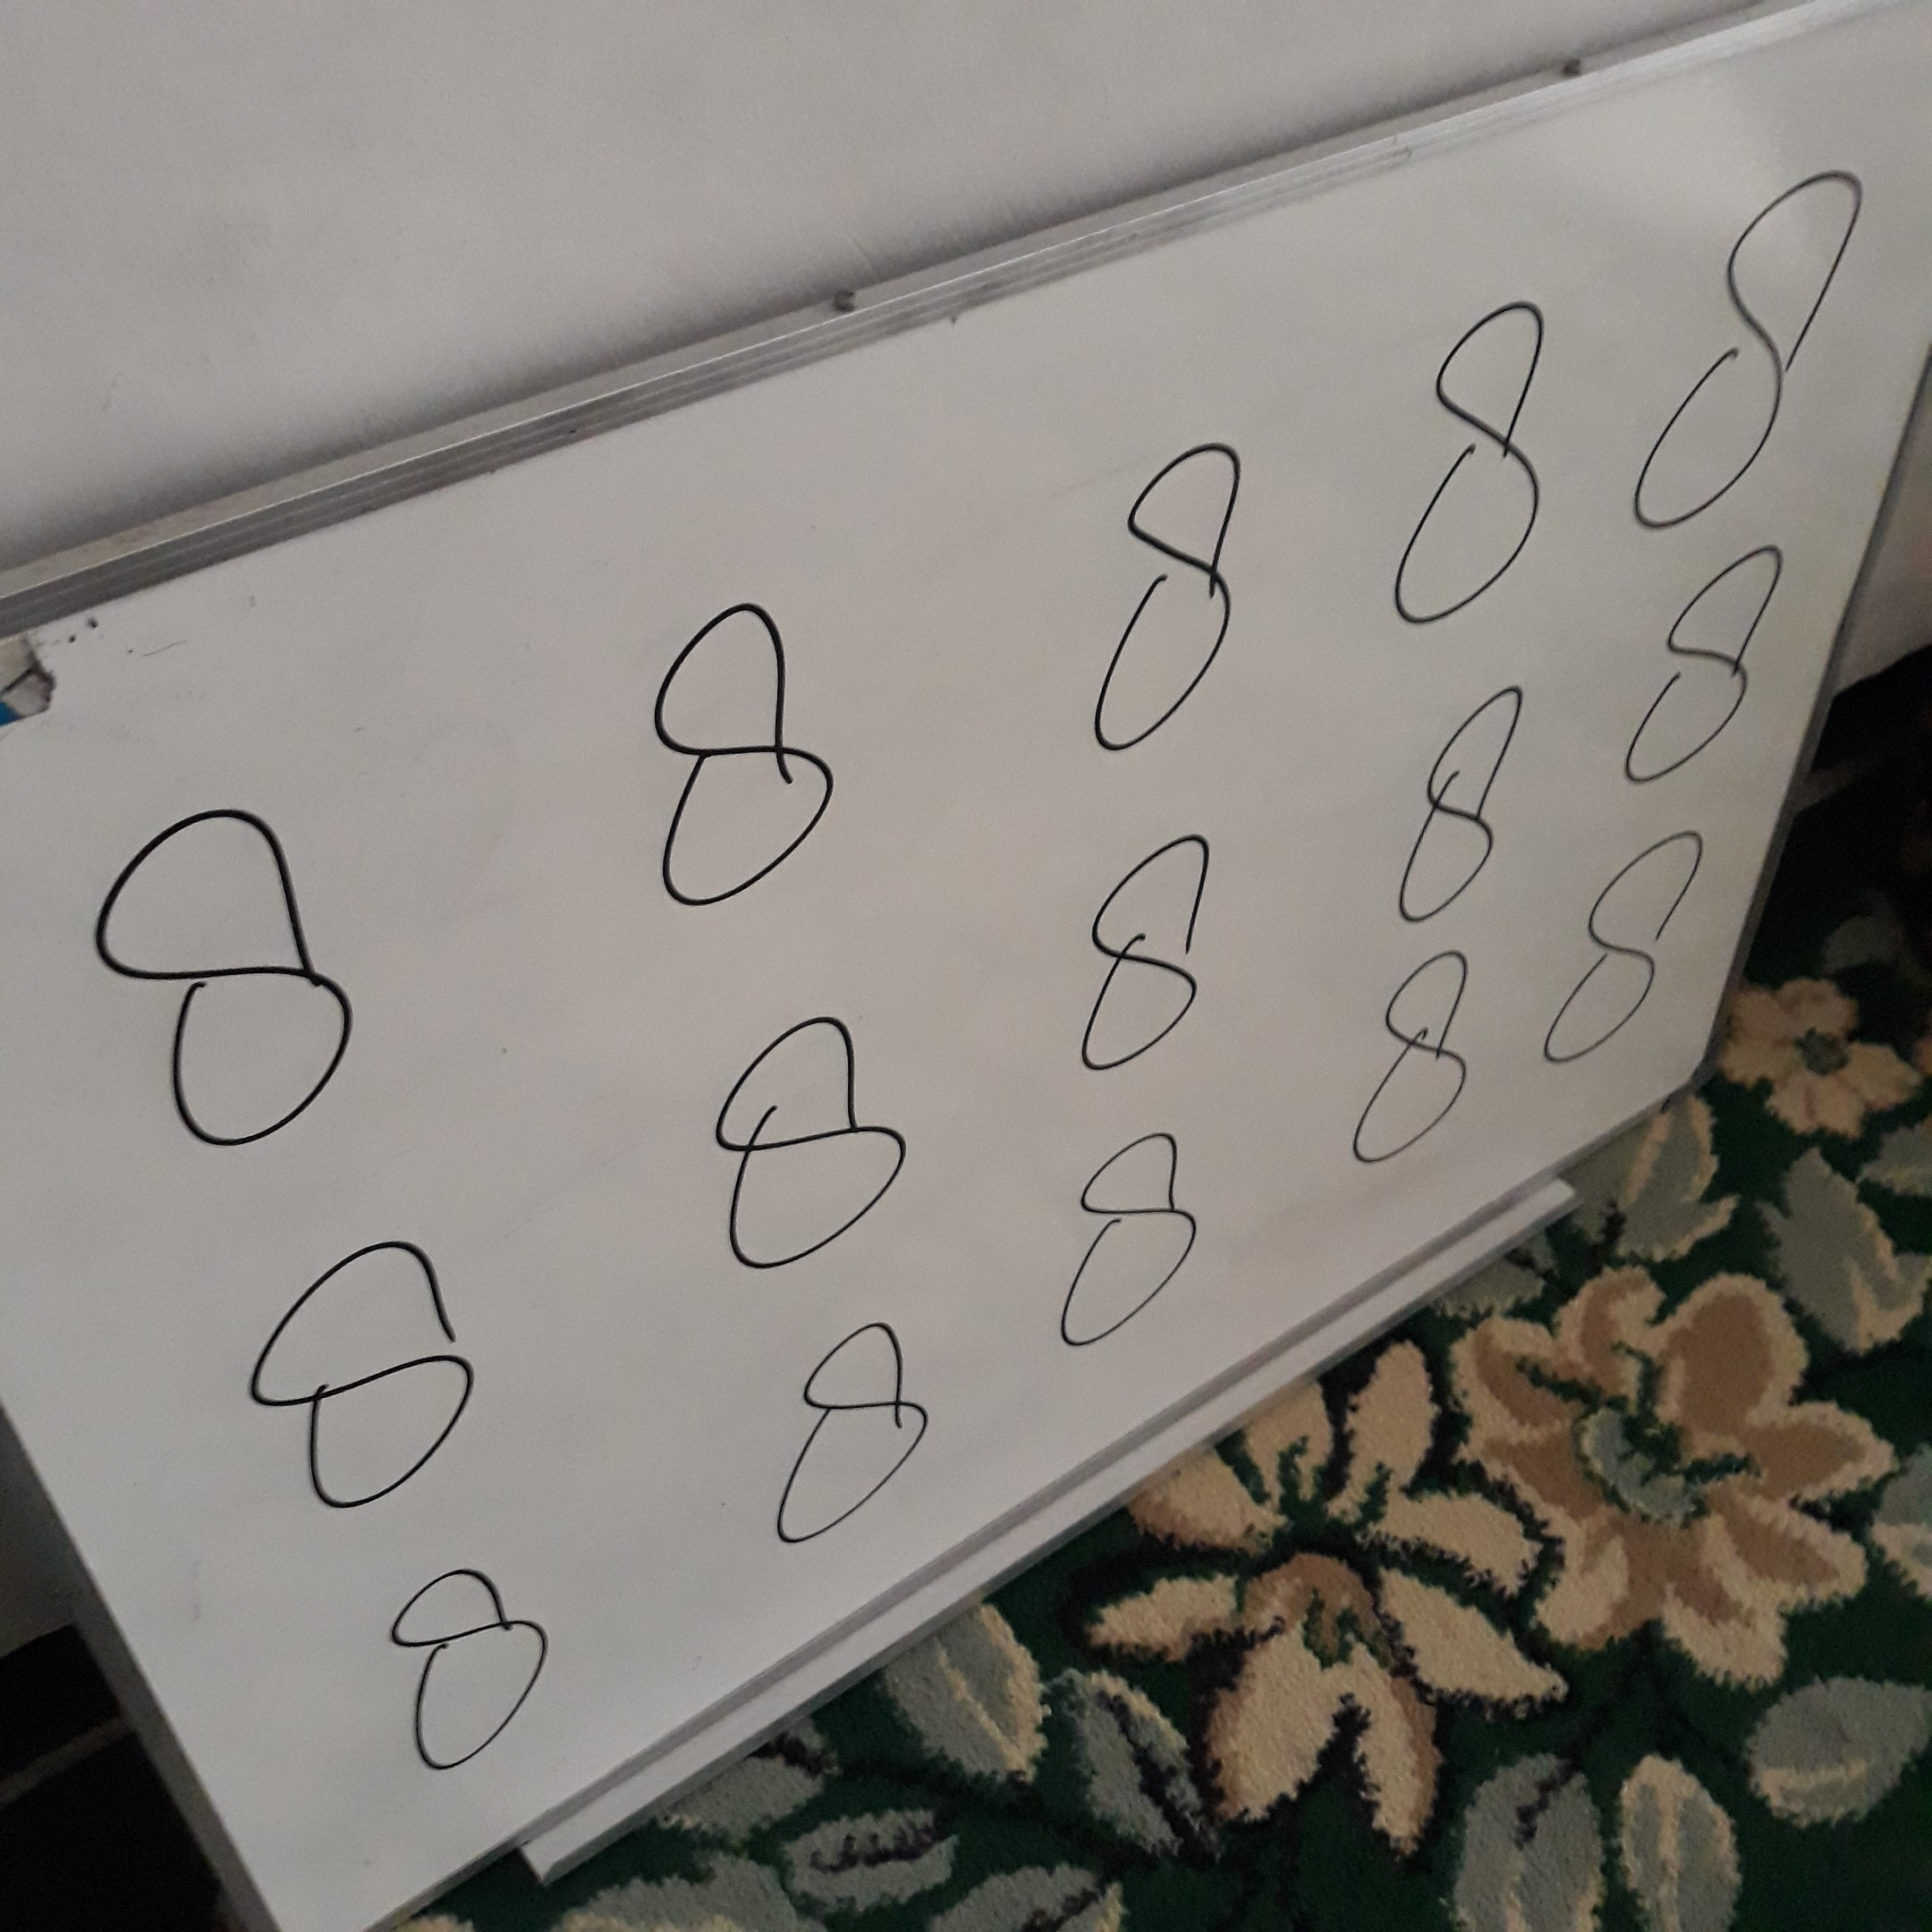num8: (65, 799, 438, 1162), (1623, 130, 1875, 532), (194, 1227, 507, 1547), (631, 586, 870, 933), (671, 1000, 951, 1289), (1372, 280, 1582, 649), (734, 1313, 982, 1559), (342, 1553, 597, 1788), (1090, 426, 1266, 767), (1536, 823, 1730, 1091), (1321, 944, 1527, 1191), (1035, 1121, 1238, 1368), (1059, 813, 1241, 1089), (1610, 529, 1789, 804), (1388, 672, 1553, 935)
